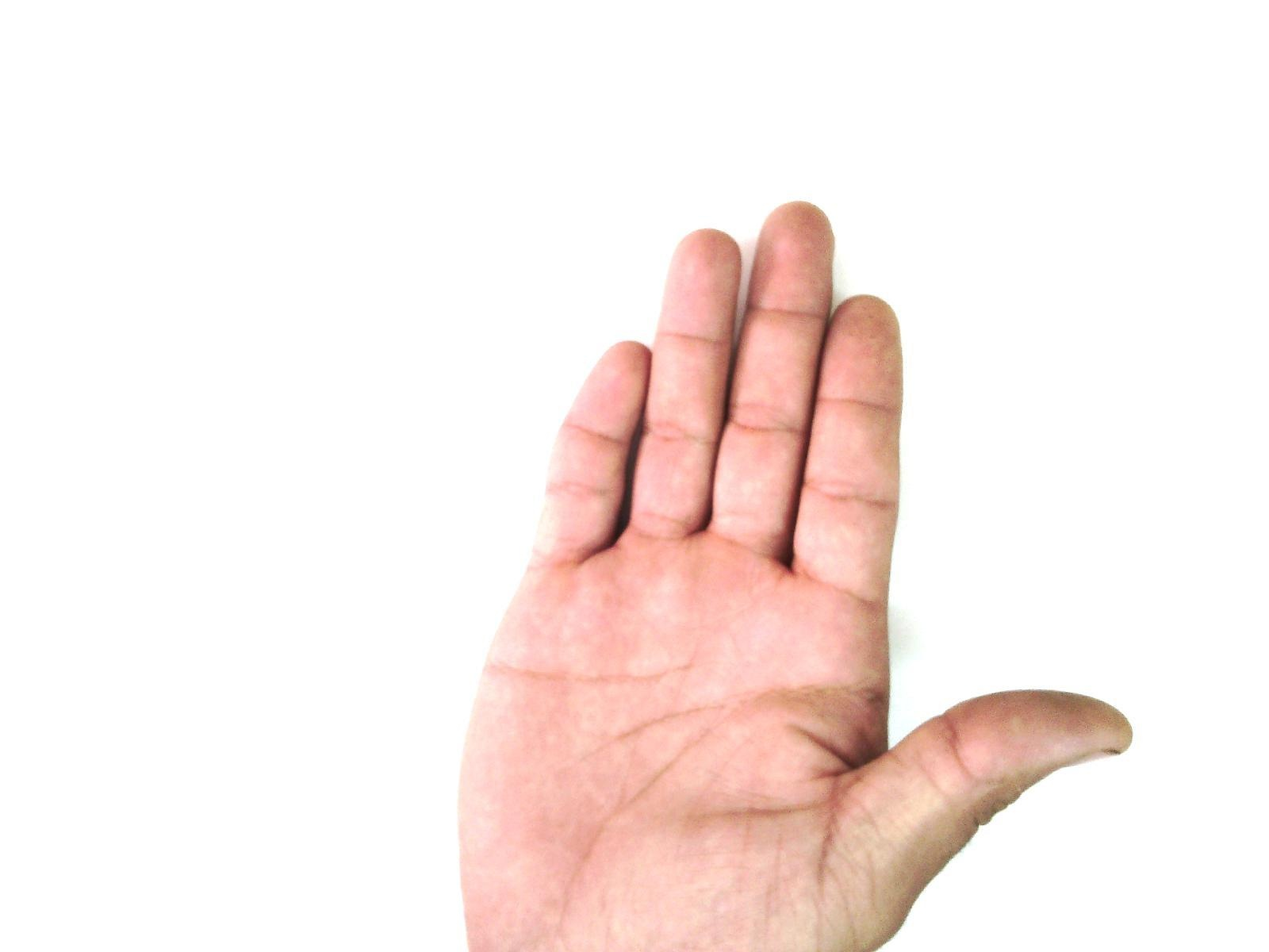open_palm: (453, 200, 1136, 952)
